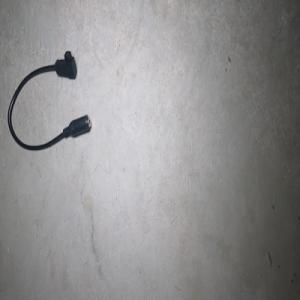Wire: (7, 50, 91, 150)
